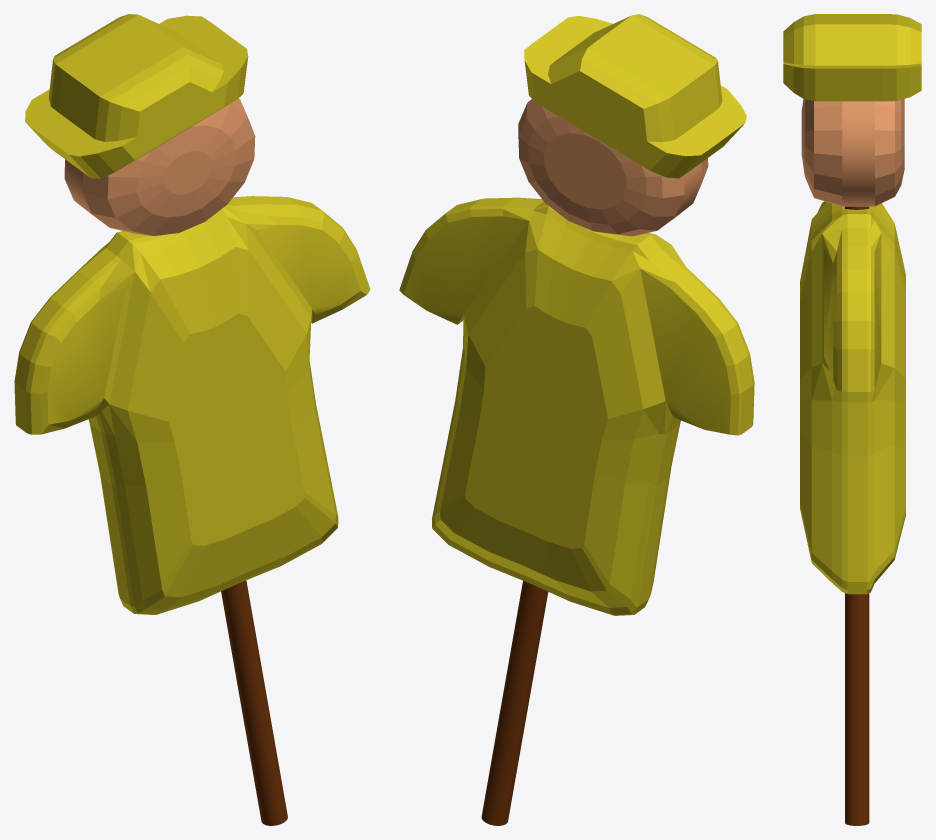
The model's file is Basic_Scarecrow (2).fbx.
3 renders of one model, left to right at view 1: azimuth 30°, elevation 25°; view 2: azimuth 150°, elevation 25°; view 3: azimuth 270°, elevation 25°, orthographic. The views are drawn at different scales.
Visible parts, largest first — view 1: Line002, Box001, Cylinder002, Cylinder001; view 2: Line002, Box001, Cylinder002, Cylinder001; view 3: Line002, Box001, Cylinder002, Cylinder001.
Boxes of the visible parts, <box> form: Line002: <box>14,196,370,614</box>; Box001: <box>25,14,248,178</box>; Cylinder002: <box>64,98,255,235</box>; Cylinder001: <box>221,580,287,825</box>; Line002: <box>399,197,754,615</box>; Box001: <box>524,14,746,178</box>; Cylinder002: <box>518,99,708,236</box>; Cylinder001: <box>481,581,548,825</box>; Line002: <box>800,201,905,594</box>; Box001: <box>783,14,921,101</box>; Cylinder002: <box>801,99,904,206</box>; Cylinder001: <box>845,206,869,825</box>.
Bounding box in the file's own units: 9.22 × 20.99 × 3.51.
